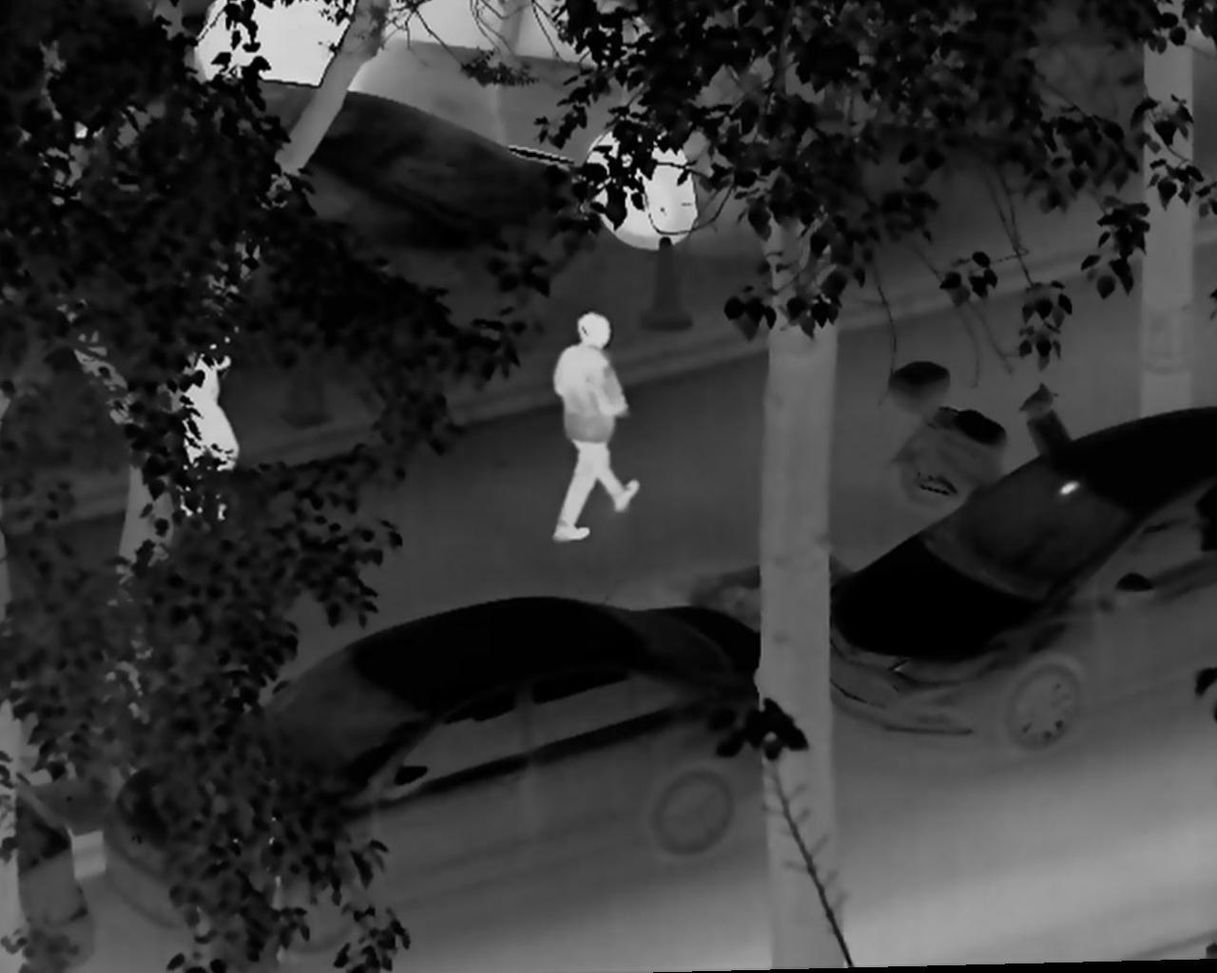person: (541, 306, 647, 548), (182, 313, 240, 532)
